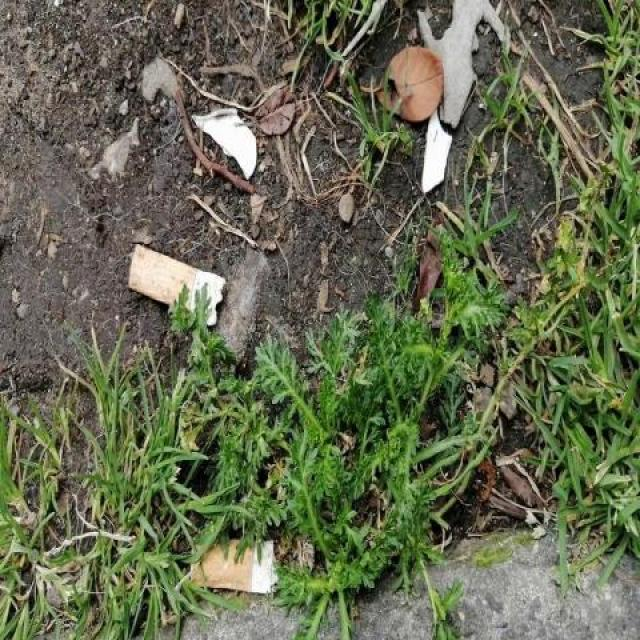non-organic waste: (126, 238, 230, 330), (186, 533, 281, 600)
